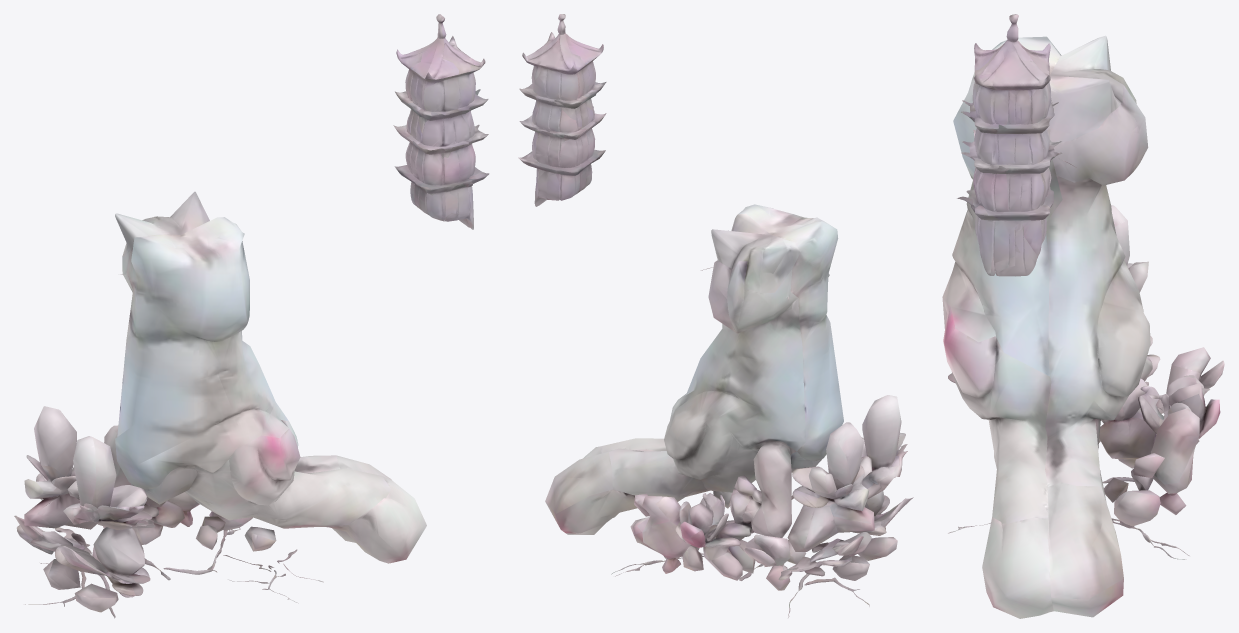
The model's file is Gaze-optimized.glb.
3 renders of one model, left to right at view 1: azimuth 30°, elevation 25°; view 2: azimuth 150°, elevation 25°; view 3: azimuth 270°, elevation 25°, orthographic. The views are drawn at different scales.
Parts seen in each view (by area): view 1: model; view 2: model; view 3: model.
Boxes of the visible parts, bbox=[...] form: model: bbox=[14, 14, 489, 618]; model: bbox=[518, 14, 913, 617]; model: bbox=[942, 14, 1224, 618].
Size of the model in its own units: 1.44 by 1.79 by 0.7286.
Materials: 1 (1 with a texture image).
